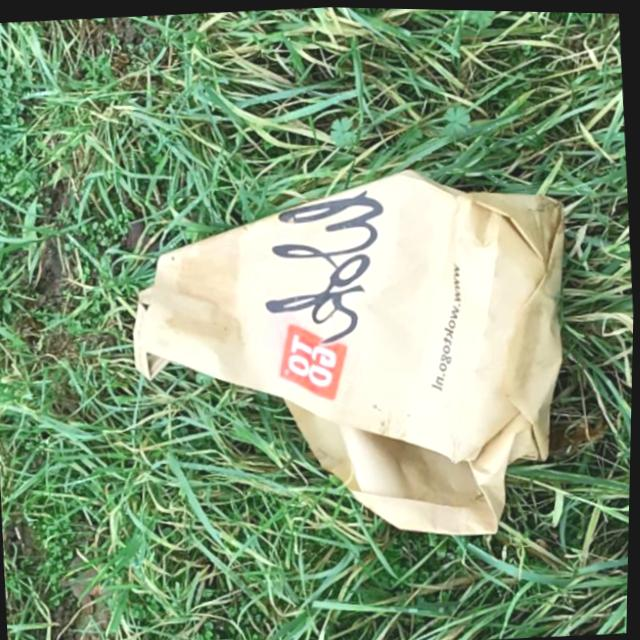Paper: (116, 144, 591, 558)
